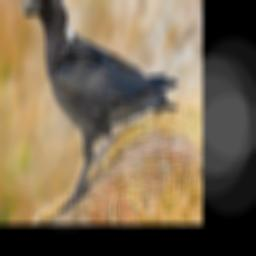Crow: (20, 0, 180, 213)
